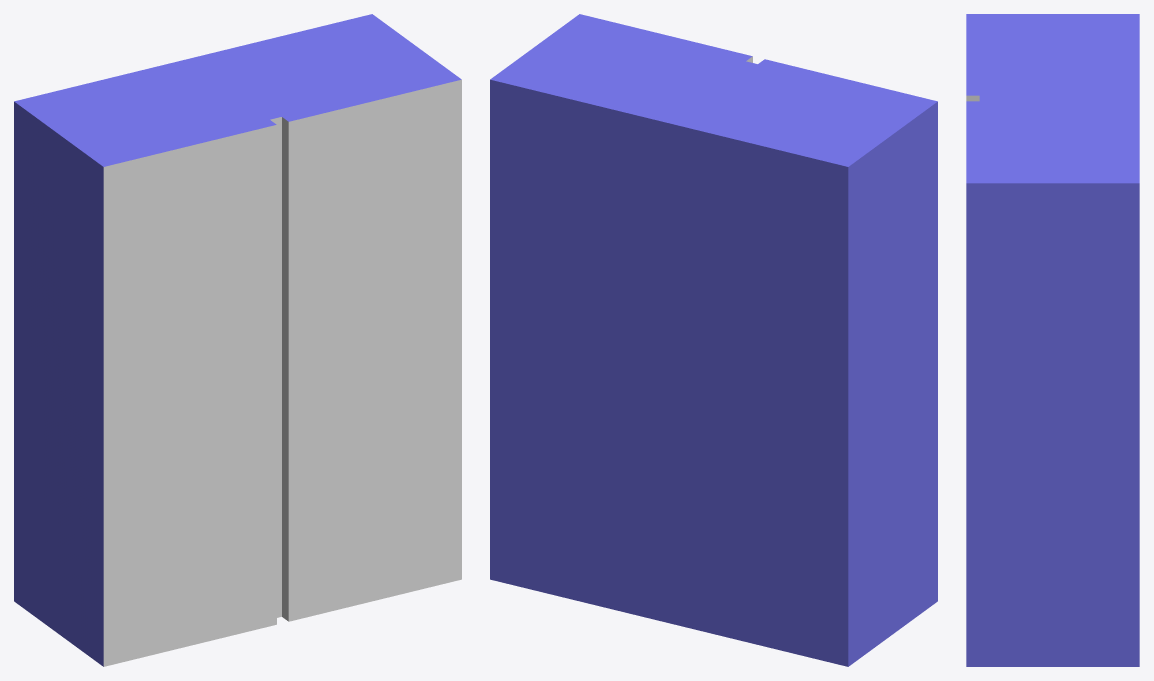
The model's file is ai.armoire.3'.glb.
3 views of the same model, side by side, from view 1: azimuth 30°, elevation 25°; view 2: azimuth 150°, elevation 25°; view 3: azimuth 270°, elevation 25° (orthographic). The views are drawn at different scales.
Visible parts, largest first — view 1: imagetostl_mesh1, imagetostl_mesh6, imagetostl_mesh2, imagetostl_mesh3, imagetostl_mesh9, imagetostl_mesh7; view 2: imagetostl_mesh4, imagetostl_mesh2, imagetostl_mesh3; view 3: imagetostl_mesh0, imagetostl_mesh3.
Part boxes in pixels (x1=…): imagetostl_mesh1: x1=288, y1=79, x2=461, y2=621; imagetostl_mesh6: x1=103, y1=125, x2=276, y2=666; imagetostl_mesh2: x1=14, y1=101, x2=103, y2=666; imagetostl_mesh3: x1=14, y1=14, x2=461, y2=166; imagetostl_mesh9: x1=282, y1=117, x2=288, y2=621; imagetostl_mesh7: x1=270, y1=117, x2=281, y2=617; imagetostl_mesh4: x1=490, y1=79, x2=848, y2=666; imagetostl_mesh2: x1=848, y1=101, x2=937, y2=666; imagetostl_mesh3: x1=490, y1=14, x2=937, y2=166; imagetostl_mesh0: x1=966, y1=183, x2=1139, y2=666; imagetostl_mesh3: x1=966, y1=14, x2=1139, y2=183.
Bounding box in the file's own units: 1.18 × 1.57 × 0.5118.
